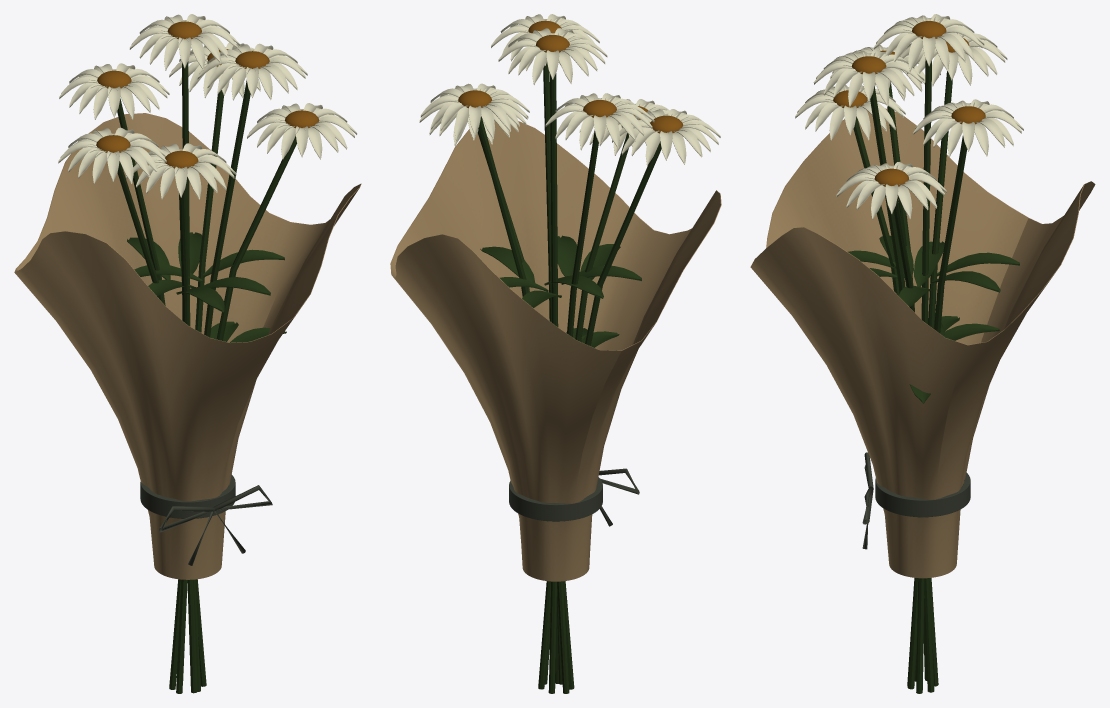
Rendered from D03_DaisyBouquet.fbx.
3 views of the same model, side by side, from view 1: azimuth 30°, elevation 25°; view 2: azimuth 150°, elevation 25°; view 3: azimuth 270°, elevation 25° (orthographic).
Parts seen in each view (by area): view 1: WrappingPaper_Mesh, Petals1_Mesh, Petals4_Mesh, Petals5_Mesh, Petals6_Mesh, Petals2_Mesh, Binding_Mesh, Petals3_Mesh, Stem2_Mesh, Stem0_Mesh, Stem5_Mesh, Stem1_Mesh (+9 smaller); view 2: WrappingPaper_Mesh, Petals0_Mesh, Petals1_Mesh, Petals4_Mesh, Petals6_Mesh, Binding_Mesh, Stem4_Mesh, Stem2_Mesh, Stem3_Mesh, Stem1_Mesh, Stem6_Mesh, Stem0_Mesh (+8 smaller); view 3: WrappingPaper_Mesh, Petals0_Mesh, Petals4_Mesh, Petals5_Mesh, Petals2_Mesh, Binding_Mesh, Petals3_Mesh, Stem4_Mesh, Petals1_Mesh, Stem0_Mesh, Stem5_Mesh, Stem1_Mesh (+7 smaller).
Part boxes in pixels (x1=…): WrappingPaper_Mesh: x1=14, y1=113, x2=361, y2=579; Petals1_Mesh: x1=59, y1=63, x2=169, y2=119; Petals4_Mesh: x1=129, y1=14, x2=239, y2=70; Petals5_Mesh: x1=247, y1=103, x2=357, y2=159; Petals6_Mesh: x1=58, y1=127, x2=166, y2=184; Petals2_Mesh: x1=197, y1=43, x2=307, y2=100; Binding_Mesh: x1=140, y1=474, x2=272, y2=565; Petals3_Mesh: x1=126, y1=143, x2=236, y2=199; Stem2_Mesh: x1=169, y1=80, x2=250, y2=689; Stem0_Mesh: x1=187, y1=90, x2=223, y2=693; Stem5_Mesh: x1=195, y1=136, x2=296, y2=686; Stem1_Mesh: x1=117, y1=98, x2=187, y2=693; WrappingPaper_Mesh: x1=390, y1=120, x2=721, y2=581; Petals0_Mesh: x1=420, y1=83, x2=529, y2=140; Petals1_Mesh: x1=545, y1=93, x2=654, y2=150; Petals4_Mesh: x1=498, y1=28, x2=607, y2=84; Petals6_Mesh: x1=612, y1=109, x2=720, y2=165; Binding_Mesh: x1=509, y1=468, x2=639, y2=526; Stem4_Mesh: x1=538, y1=73, x2=558, y2=689; Stem2_Mesh: x1=543, y1=62, x2=569, y2=693; Stem3_Mesh: x1=548, y1=133, x2=628, y2=693; Stem1_Mesh: x1=563, y1=130, x2=598, y2=689; Stem6_Mesh: x1=555, y1=141, x2=661, y2=683; Stem0_Mesh: x1=478, y1=116, x2=562, y2=684; WrappingPaper_Mesh: x1=750, y1=108, x2=1095, y2=578; Petals0_Mesh: x1=913, y1=99, x2=1023, y2=157; Petals4_Mesh: x1=874, y1=14, x2=984, y2=71; Petals5_Mesh: x1=836, y1=162, x2=946, y2=219; Petals2_Mesh: x1=813, y1=49, x2=924, y2=106; Binding_Mesh: x1=862, y1=452, x2=970, y2=549; Petals3_Mesh: x1=795, y1=84, x2=905, y2=141; Stem4_Mesh: x1=921, y1=59, x2=934, y2=692; Petals1_Mesh: x1=900, y1=32, x2=1007, y2=86; Stem0_Mesh: x1=907, y1=136, x2=967, y2=686; Stem5_Mesh: x1=893, y1=197, x2=924, y2=693; Stem1_Mesh: x1=915, y1=71, x2=952, y2=681.
Bounding box in the file's own units: 0.1665 × 0.3527 × 0.1665.
